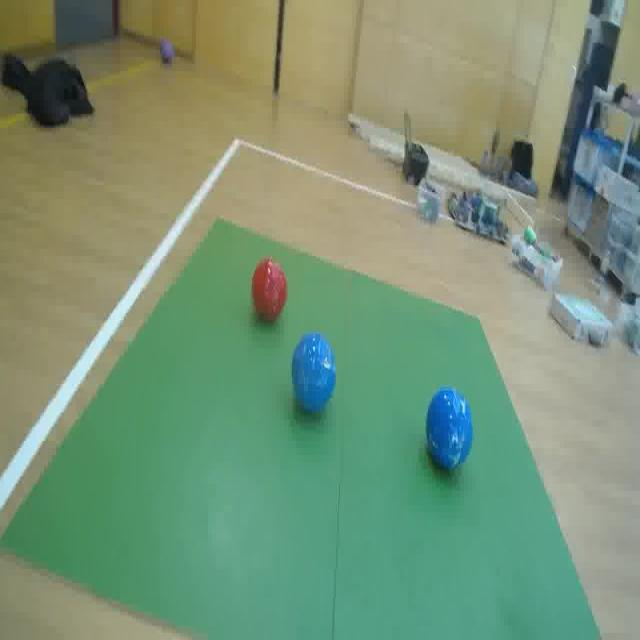blue_ball: (424, 385, 475, 475), (288, 327, 338, 415)
purple_ball: (160, 35, 173, 67)
red_ball: (249, 253, 287, 320)
